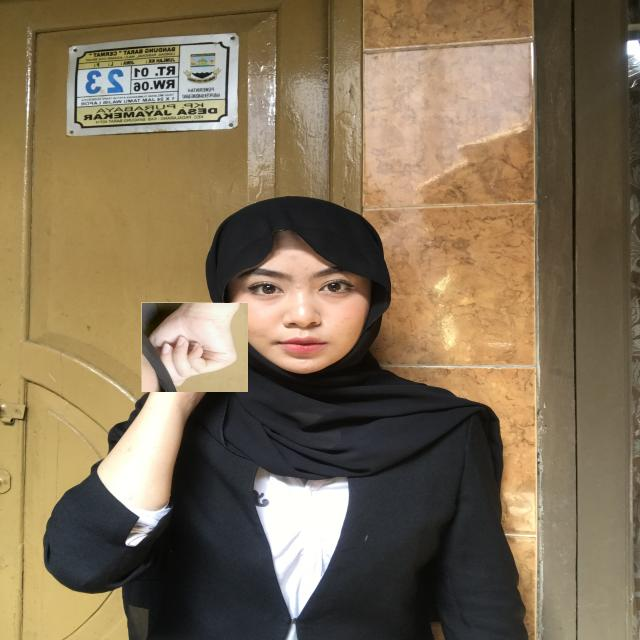ibu: (141, 302, 248, 392)
